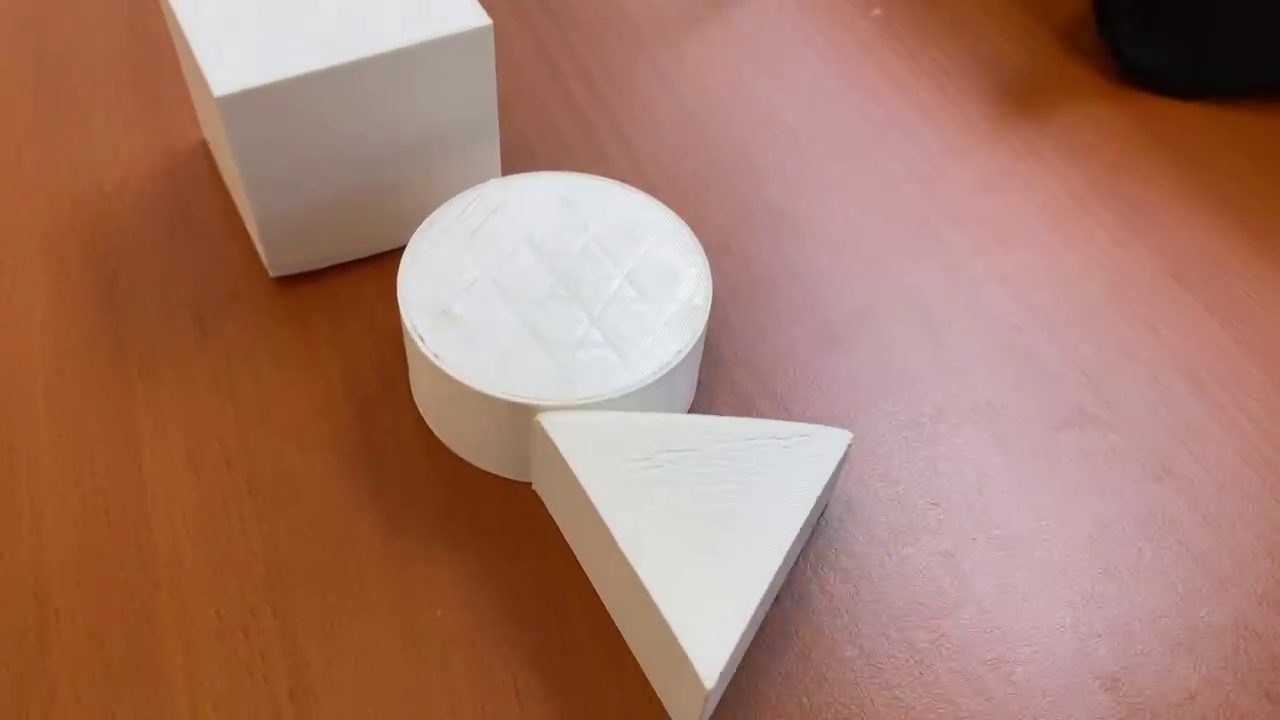Cube: (161, 2, 515, 278)
Cylinder_short: (394, 169, 715, 482)
Triangle_short: (528, 403, 854, 719)
